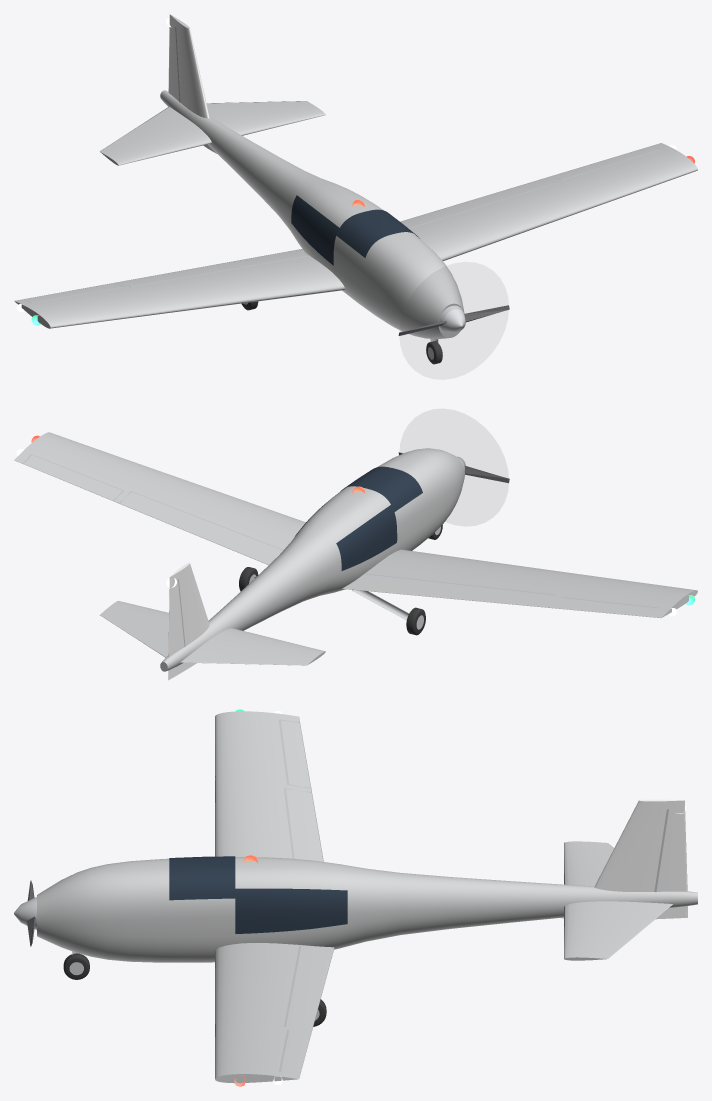
The model's file is TOBA.glb.
The picture shows the model from 3 angles, top to bottom: view 1: azimuth 30°, elevation 25°; view 2: azimuth 150°, elevation 25°; view 3: azimuth 270°, elevation 25°; orthographic projection. The views are drawn at different scales.
Visible parts, largest first — view 1: airframe; view 2: airframe; view 3: airframe.
Part boxes in pixels (bbox=[...]): airframe: bbox=[14, 14, 697, 364]; airframe: bbox=[14, 432, 697, 680]; airframe: bbox=[14, 709, 697, 1086].
Size of the model in its own units: 10.22 by 2.3 by 7.97.
